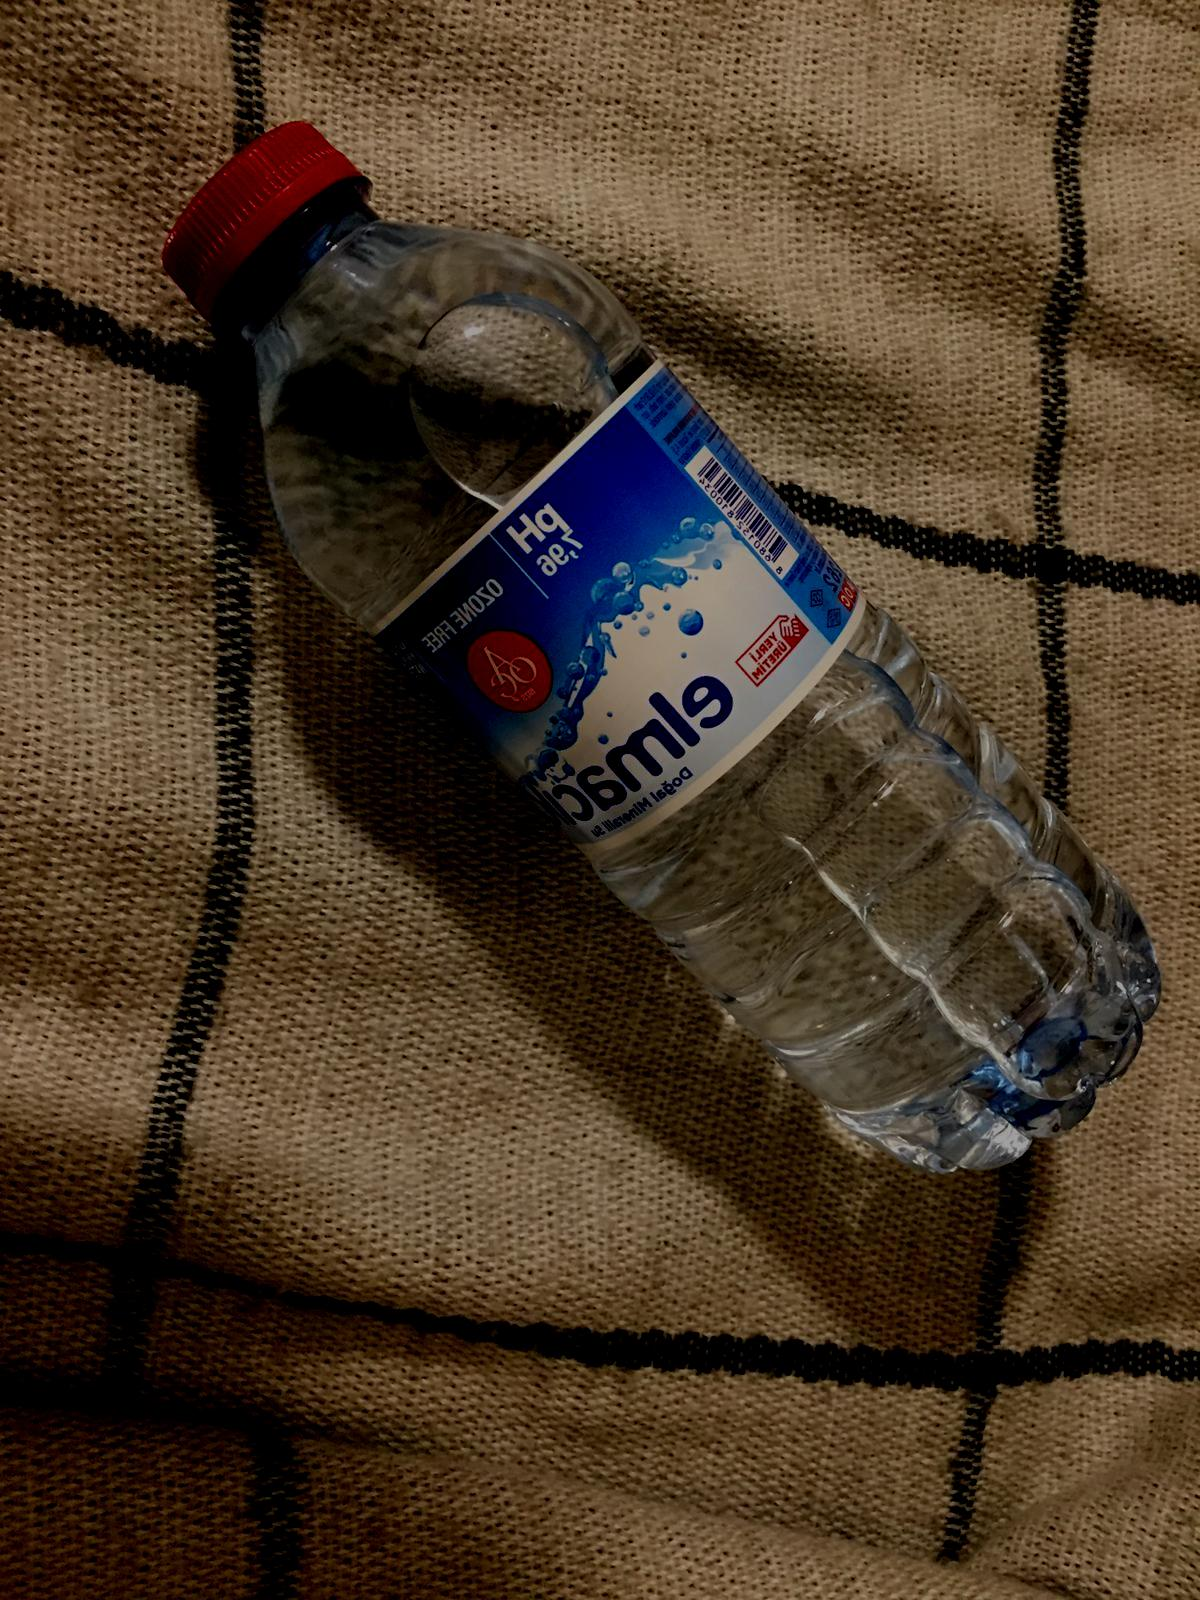bottle: (158, 117, 1158, 1177)
